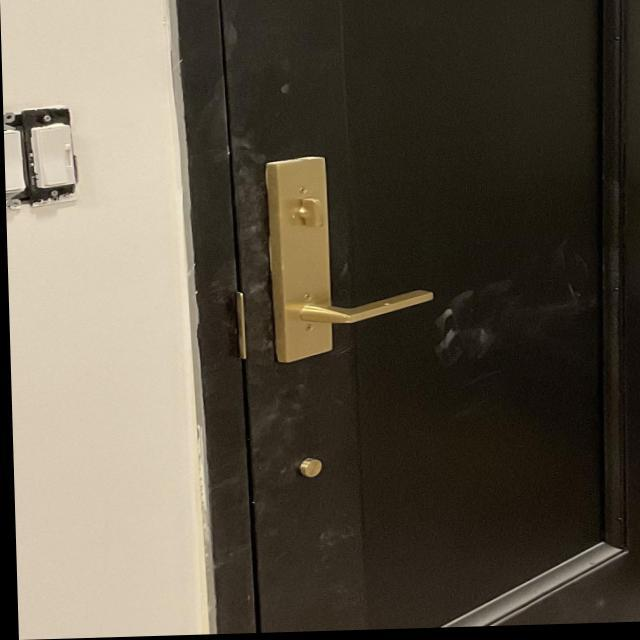door_handle: (252, 271, 451, 350)
